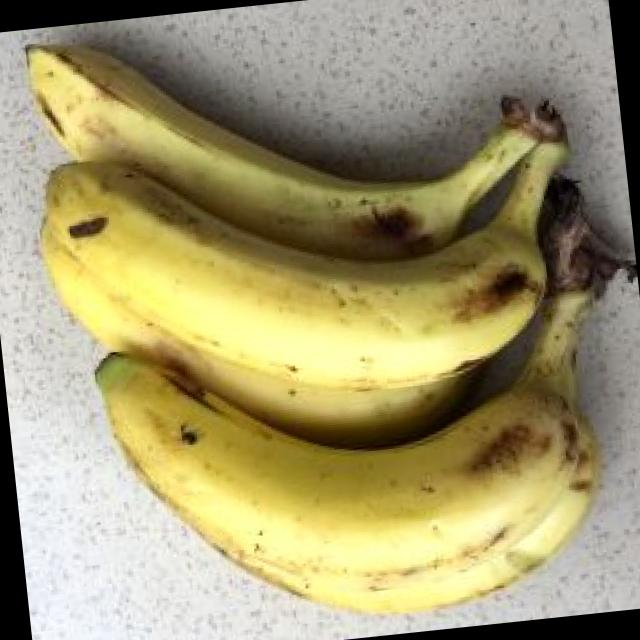banana: (96, 136, 617, 588)
